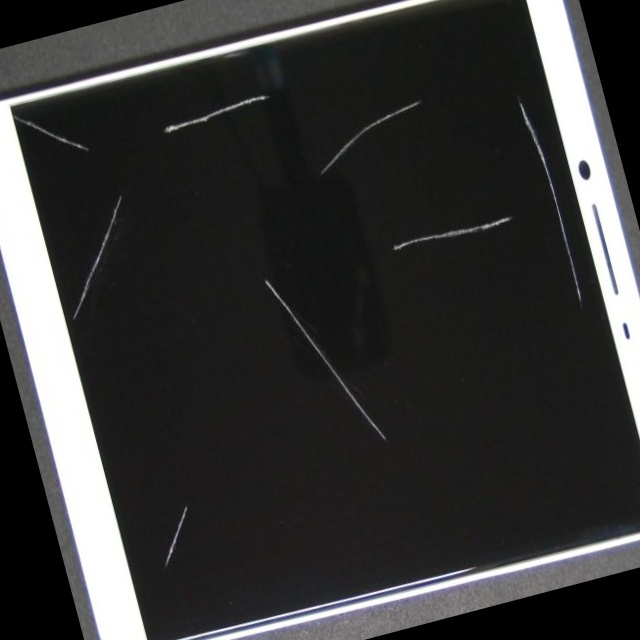scratch: (16, 0, 486, 575), (186, 0, 640, 368), (302, 43, 640, 375), (162, 5, 385, 160), (0, 47, 106, 226)
